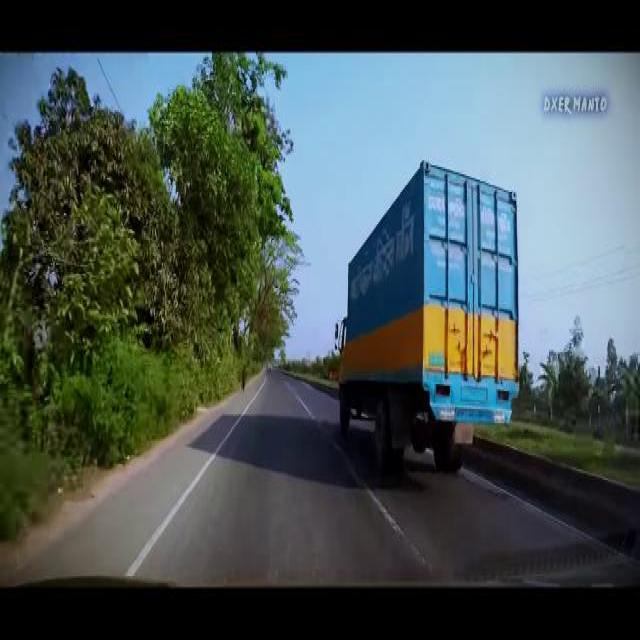truck: (332, 155, 522, 478)
